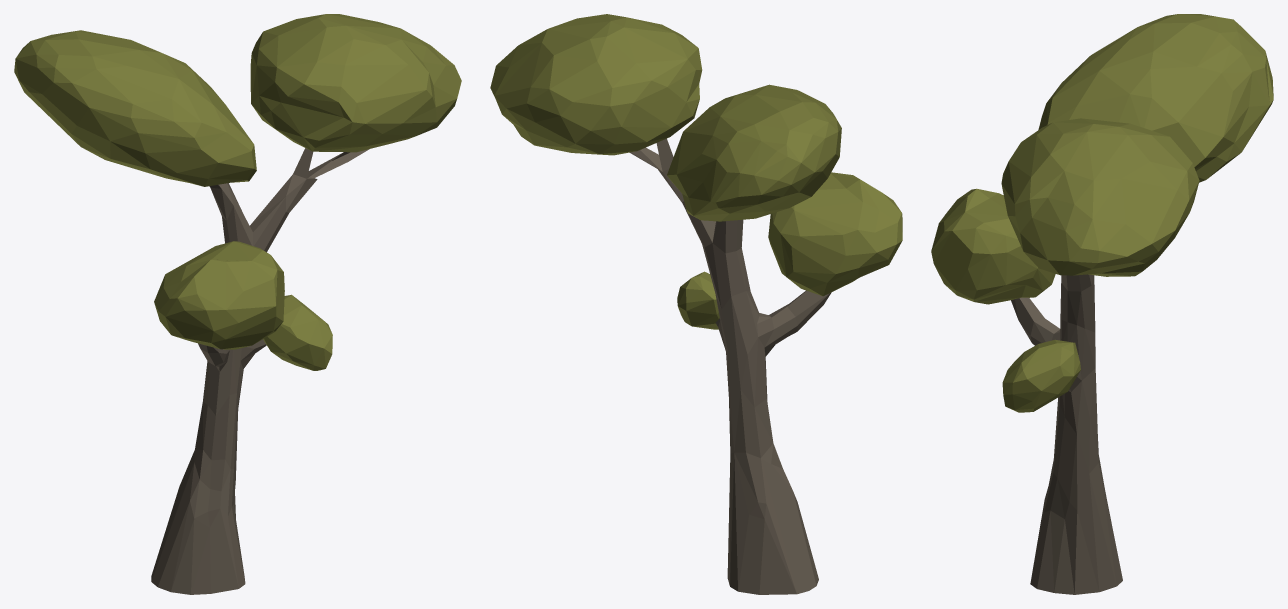
Rendered from victorian_tree_1.fbx.
The picture shows the model from 3 angles, left to right: view 1: azimuth 30°, elevation 25°; view 2: azimuth 150°, elevation 25°; view 3: azimuth 270°, elevation 25°; orthographic projection. The views are drawn at different scales.
Visible parts, largest first — view 1: Icosphere.002, Cylinder.009; view 2: Icosphere.002, Cylinder.009; view 3: Icosphere.002, Cylinder.009.
Part boxes in pixels (bbox=[...]): Icosphere.002: bbox=[14, 14, 461, 370]; Cylinder.009: bbox=[151, 148, 369, 594]; Icosphere.002: bbox=[490, 14, 902, 329]; Cylinder.009: bbox=[630, 138, 831, 594]; Icosphere.002: bbox=[931, 14, 1273, 412]; Cylinder.009: bbox=[1011, 274, 1122, 594].
Bounding box in the file's own units: 526 × 694 × 413.
